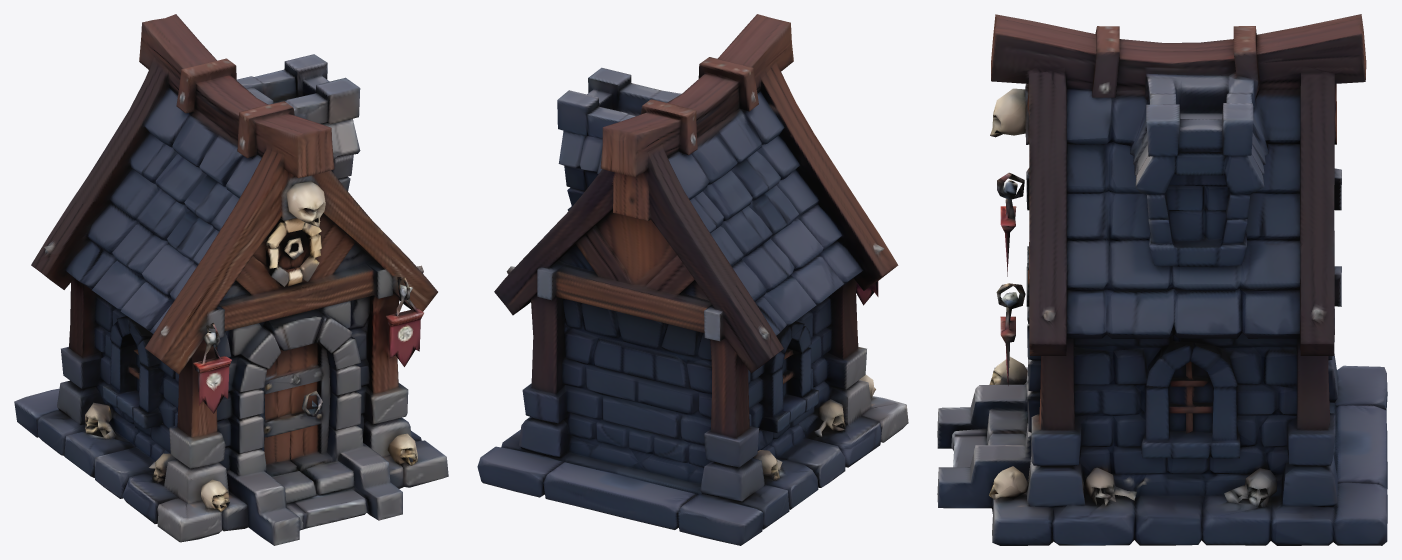
The model's file is base_basic_shaded.fbx.
3 views of the same model, side by side, from view 1: azimuth 30°, elevation 25°; view 2: azimuth 150°, elevation 25°; view 3: azimuth 270°, elevation 25° (orthographic). The views are drawn at different scales.
Parts seen in each view (by area): view 1: model; view 2: model; view 3: model.
Part boxes in pixels (x1,y1,x2,y2): model: [14, 14, 448, 545]; model: [477, 14, 908, 545]; model: [937, 14, 1387, 545].
Size of the model in its own units: 11.48 by 15 by 13.65.
